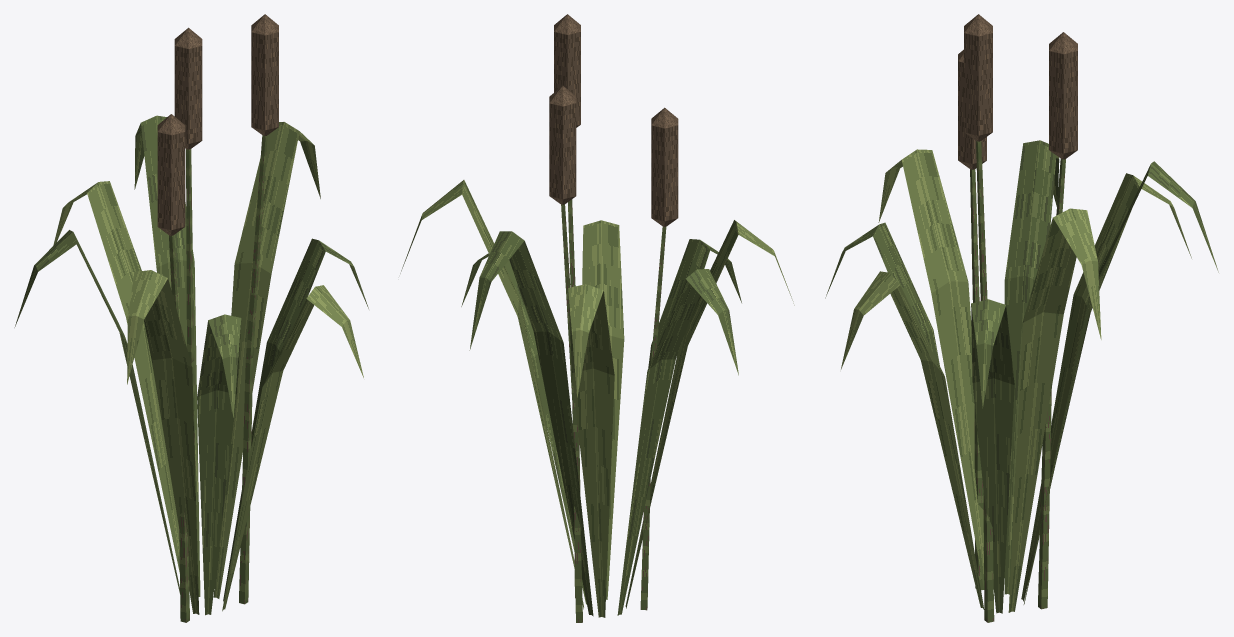
The model's file is sich_cattails.glb.
The picture shows the model from 3 angles, left to right: view 1: azimuth 30°, elevation 25°; view 2: azimuth 150°, elevation 25°; view 3: azimuth 270°, elevation 25°; orthographic projection. The views are drawn at different scales.
Parts seen in each view (by area): view 1: Cattail_Stem_01; view 2: Cattail_Stem_01; view 3: Cattail_Stem_01.
Part boxes in pixels (<box>): Cattail_Stem_01: <box>14,14,368,622</box>; Cattail_Stem_01: <box>400,14,794,622</box>; Cattail_Stem_01: <box>825,14,1218,622</box>.
Size of the model in its own units: 0.7 by 1.2 by 0.6984.
1 material, 1 textured.
